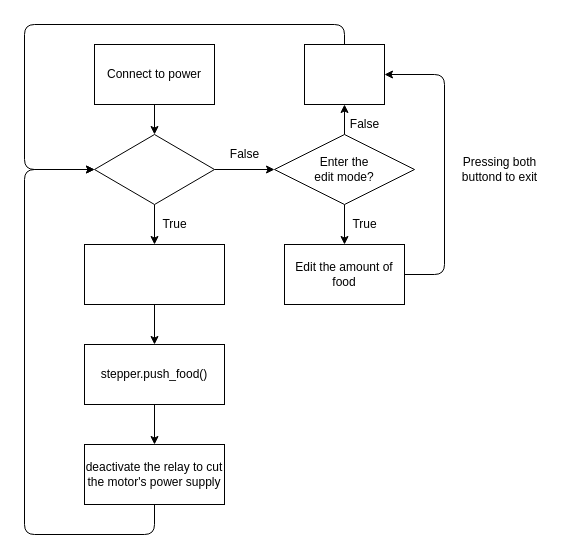
Image size: 562x560. Some labels were removed from this diagram. The shapes that lost their labels are listed below. From the top down, each one's centre as x and y in pixels, then its label:
At pixel 344 74: "sleep(1)".
At pixel 154 169: "check_time".
At pixel 154 274: "activate the relay for stepper motor's power supply".
